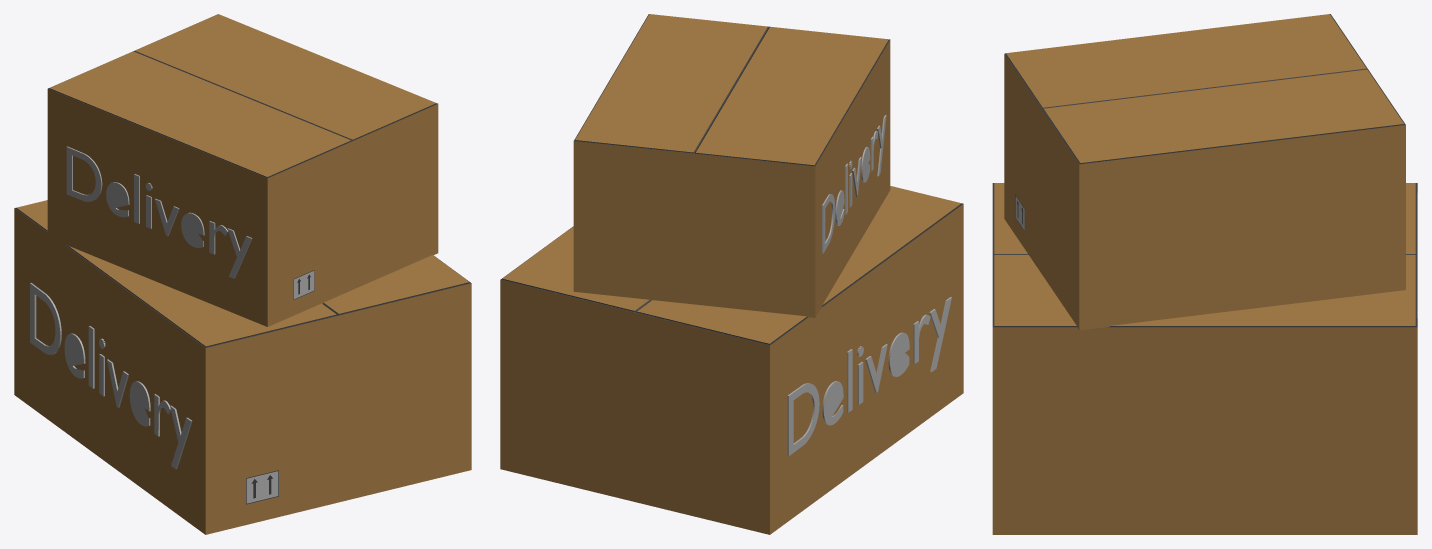
3 views of the same model, side by side, from view 1: azimuth 30°, elevation 25°; view 2: azimuth 150°, elevation 25°; view 3: azimuth 270°, elevation 25° (orthographic). The views are drawn at different scales.
Parts seen in each view (by area): view 1: Plane, Plane.001; view 2: Plane, Plane.001; view 3: Plane.001, Plane.
Part boxes in pixels (<box>): Plane: <box>14,200,471,534</box>; Plane.001: <box>47,14,438,326</box>; Plane: <box>500,186,963,534</box>; Plane.001: <box>573,14,890,317</box>; Plane.001: <box>1004,14,1405,330</box>; Plane: <box>992,183,1417,534</box>.
Size of the model in its own units: 15.95 by 18.5 by 19.04.
